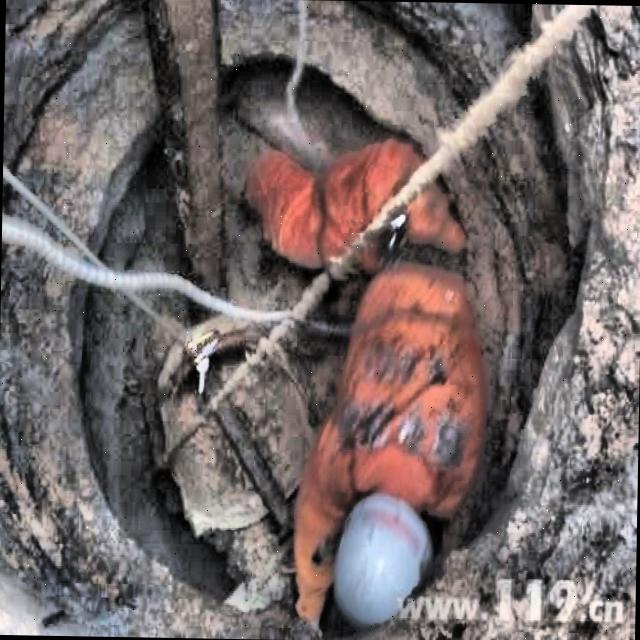helmet: (329, 486, 440, 628)
